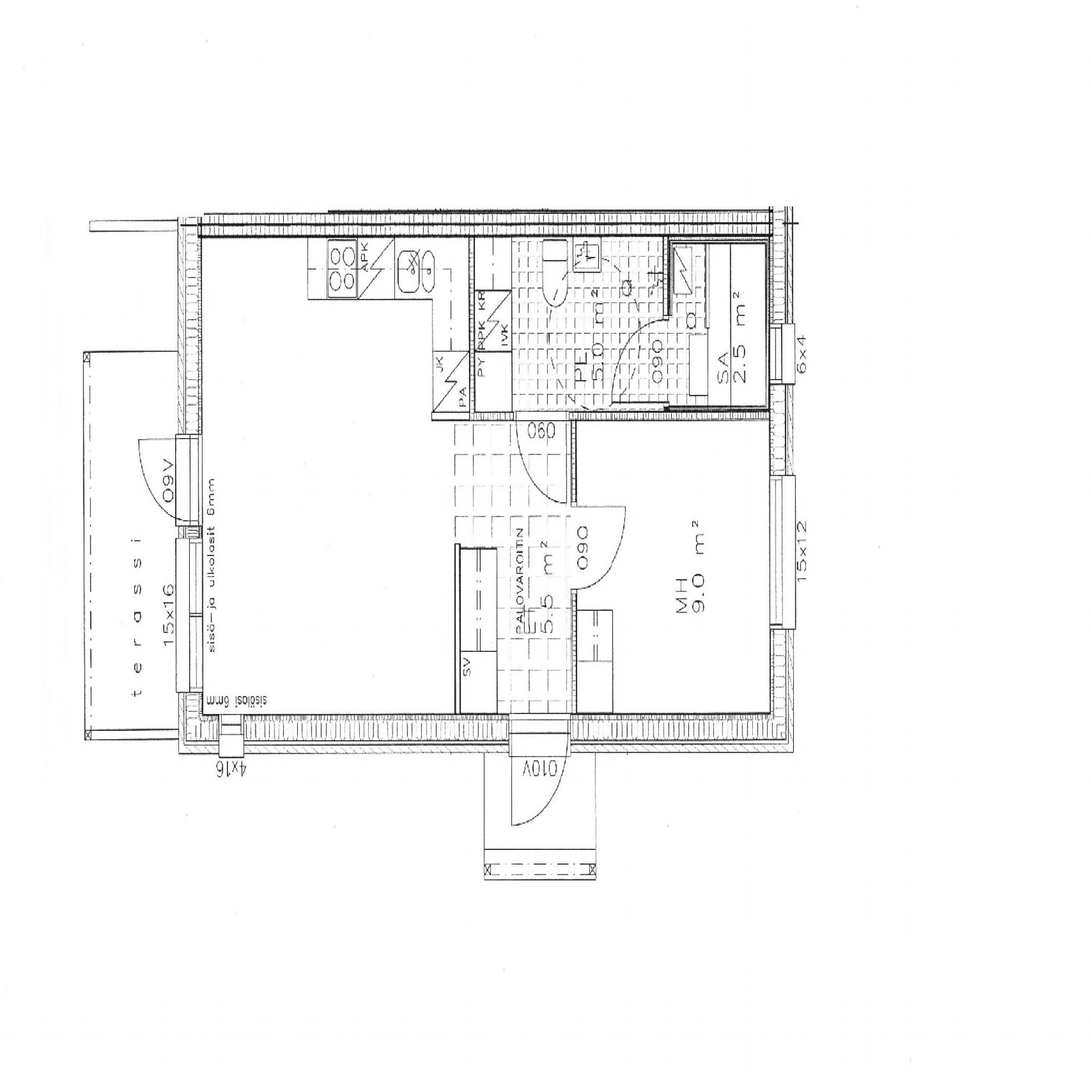wall: (179, 714, 794, 754), (179, 214, 794, 237), (178, 214, 203, 754), (770, 214, 794, 754), (469, 412, 770, 421), (571, 421, 577, 714), (469, 238, 476, 421), (663, 237, 670, 412), (455, 543, 460, 714), (431, 412, 469, 422)
